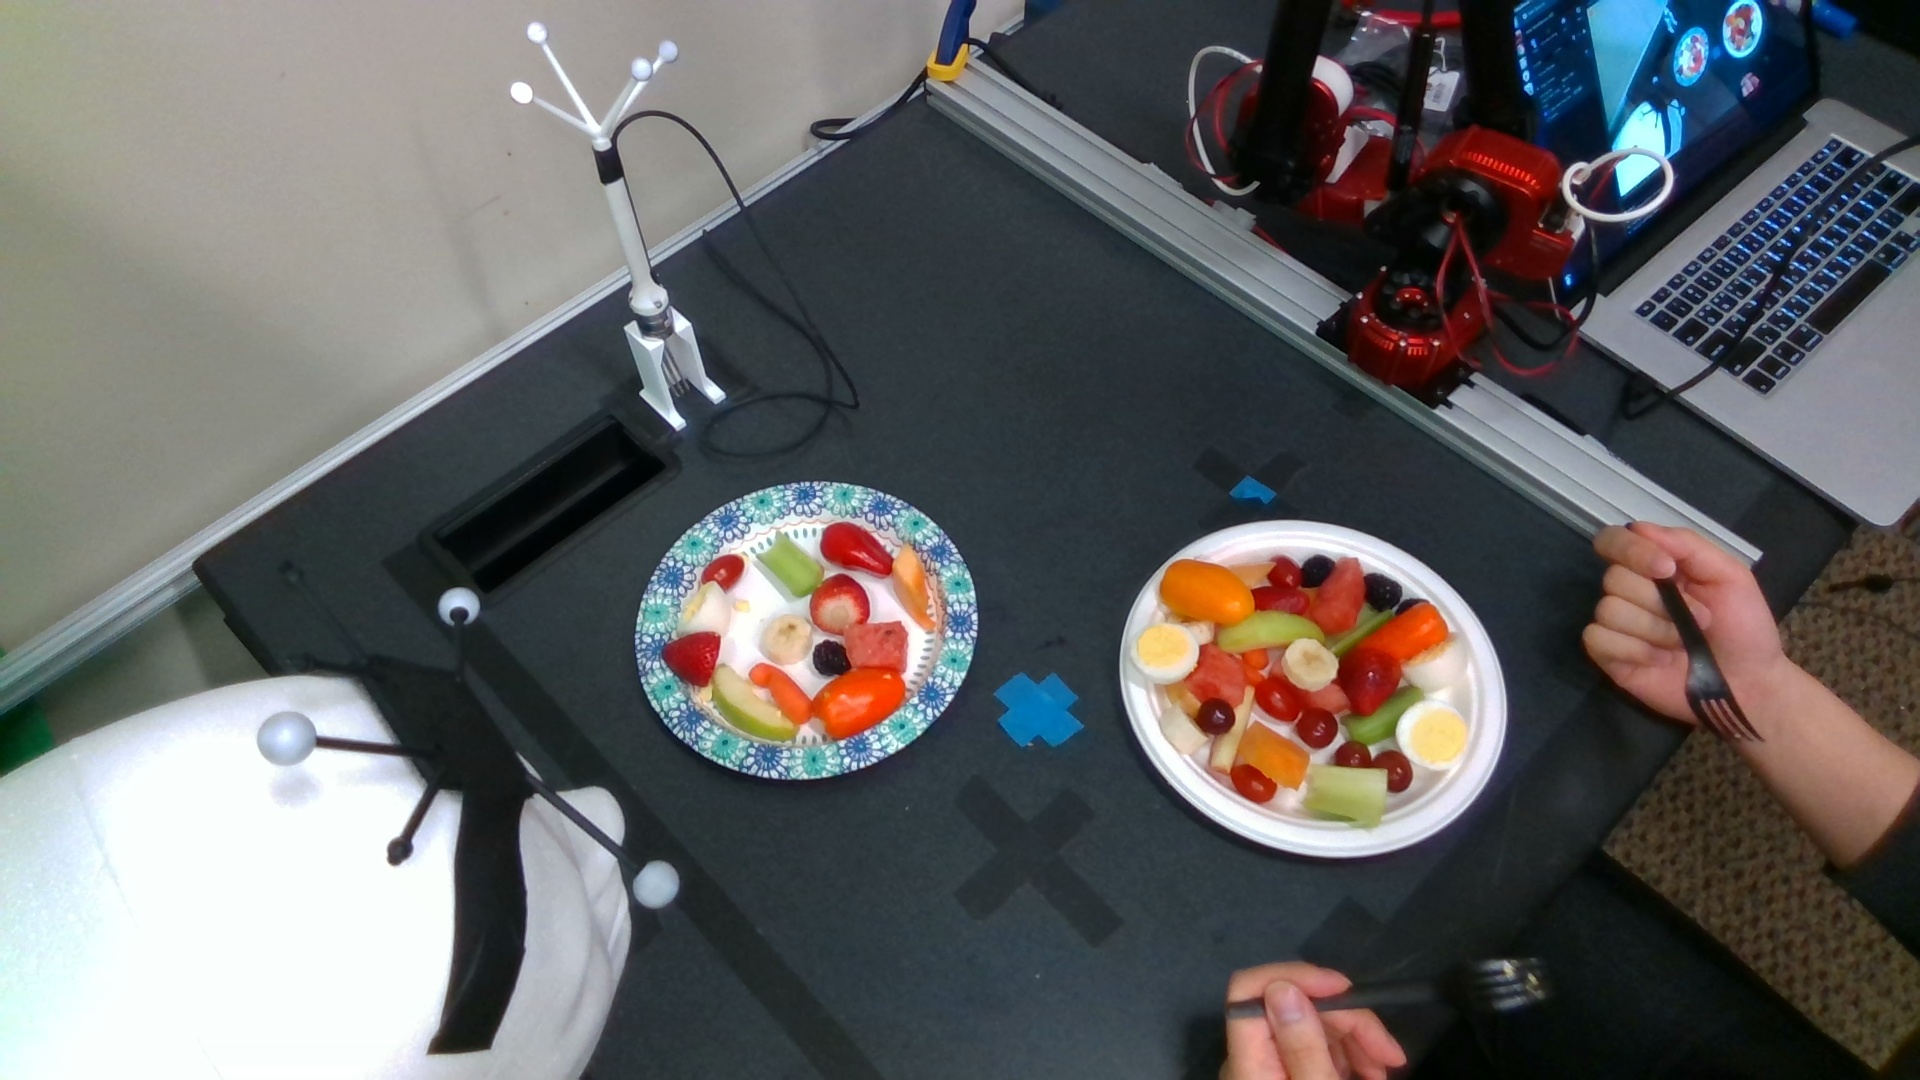apple: (712, 663, 799, 740), (1216, 611, 1327, 651)
banana: (1283, 640, 1337, 691), (764, 615, 814, 665), (1160, 702, 1208, 752)
bell pepper: (812, 669, 905, 738), (1162, 560, 1253, 624), (1357, 603, 1448, 659), (820, 521, 893, 576)
blackberry: (1364, 574, 1402, 611), (814, 640, 851, 675), (1302, 555, 1335, 587)
cantalope: (1240, 724, 1308, 789), (893, 545, 935, 630)
carrot: (749, 663, 812, 723)
celery: (1307, 765, 1387, 825), (757, 530, 824, 597)
cherry tomato: (1257, 679, 1299, 720), (1232, 764, 1276, 800), (703, 555, 742, 589), (1267, 556, 1302, 585)
egg: (1396, 702, 1468, 769), (1130, 622, 1197, 684), (1403, 633, 1466, 691), (676, 582, 732, 636)
grape: (1373, 750, 1414, 793), (1296, 708, 1337, 748), (1196, 699, 1236, 735), (1335, 740, 1371, 767)
melon: (1311, 558, 1364, 632), (1185, 644, 1245, 705), (844, 621, 909, 671)
plate: (1120, 520, 1509, 858), (636, 483, 978, 781)
strawberry: (1338, 649, 1400, 716), (810, 574, 870, 636), (662, 633, 721, 687)
